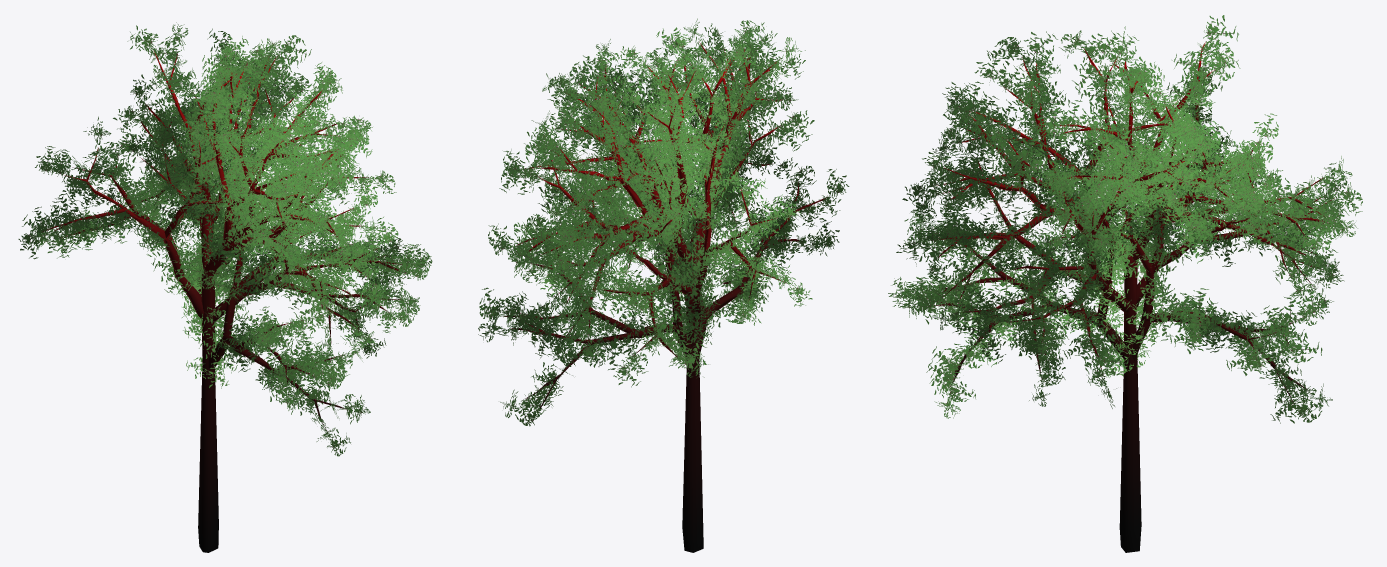
The model's file is Tree_GardenBeechA.fbx.
3 renders of one model, left to right at view 1: azimuth 30°, elevation 25°; view 2: azimuth 150°, elevation 25°; view 3: azimuth 270°, elevation 25°, orthographic. The views are drawn at different scales.
Parts seen in each view (by area): view 1: GardenBeechA_LOD0; view 2: GardenBeechA_LOD0; view 3: GardenBeechA_LOD0.
Part boxes in pixels (x1,y1,x2,y2): GardenBeechA_LOD0: [18, 22, 432, 552]; GardenBeechA_LOD0: [478, 18, 849, 552]; GardenBeechA_LOD0: [888, 15, 1362, 552].
Size of what is drawn, in the model's own units: 7.02 by 10.01 by 8.29.
